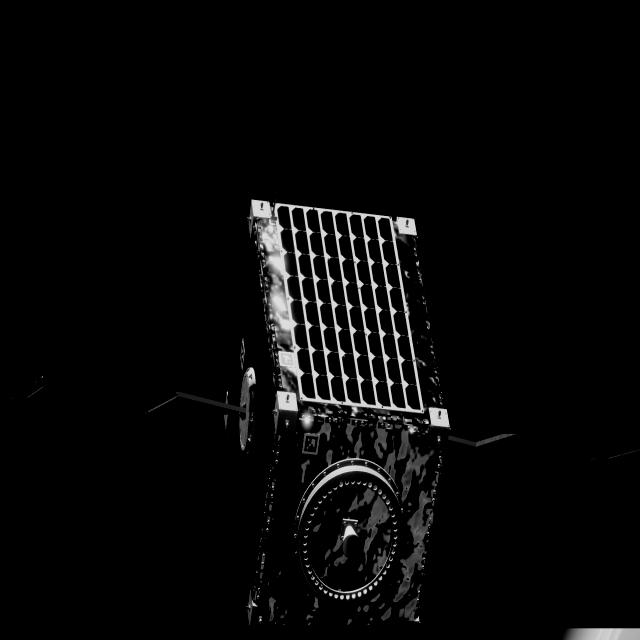medium_debris: (0, 199, 640, 629)
